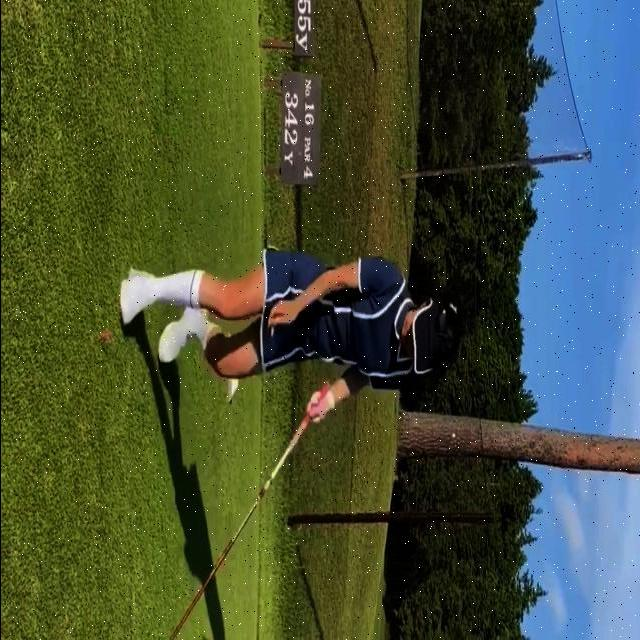golf club-handle: (166, 382, 330, 640)
